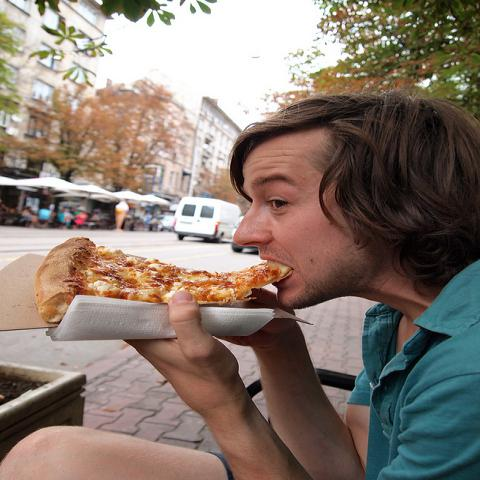car: (230, 216, 259, 254)
truck: (172, 196, 242, 242)
